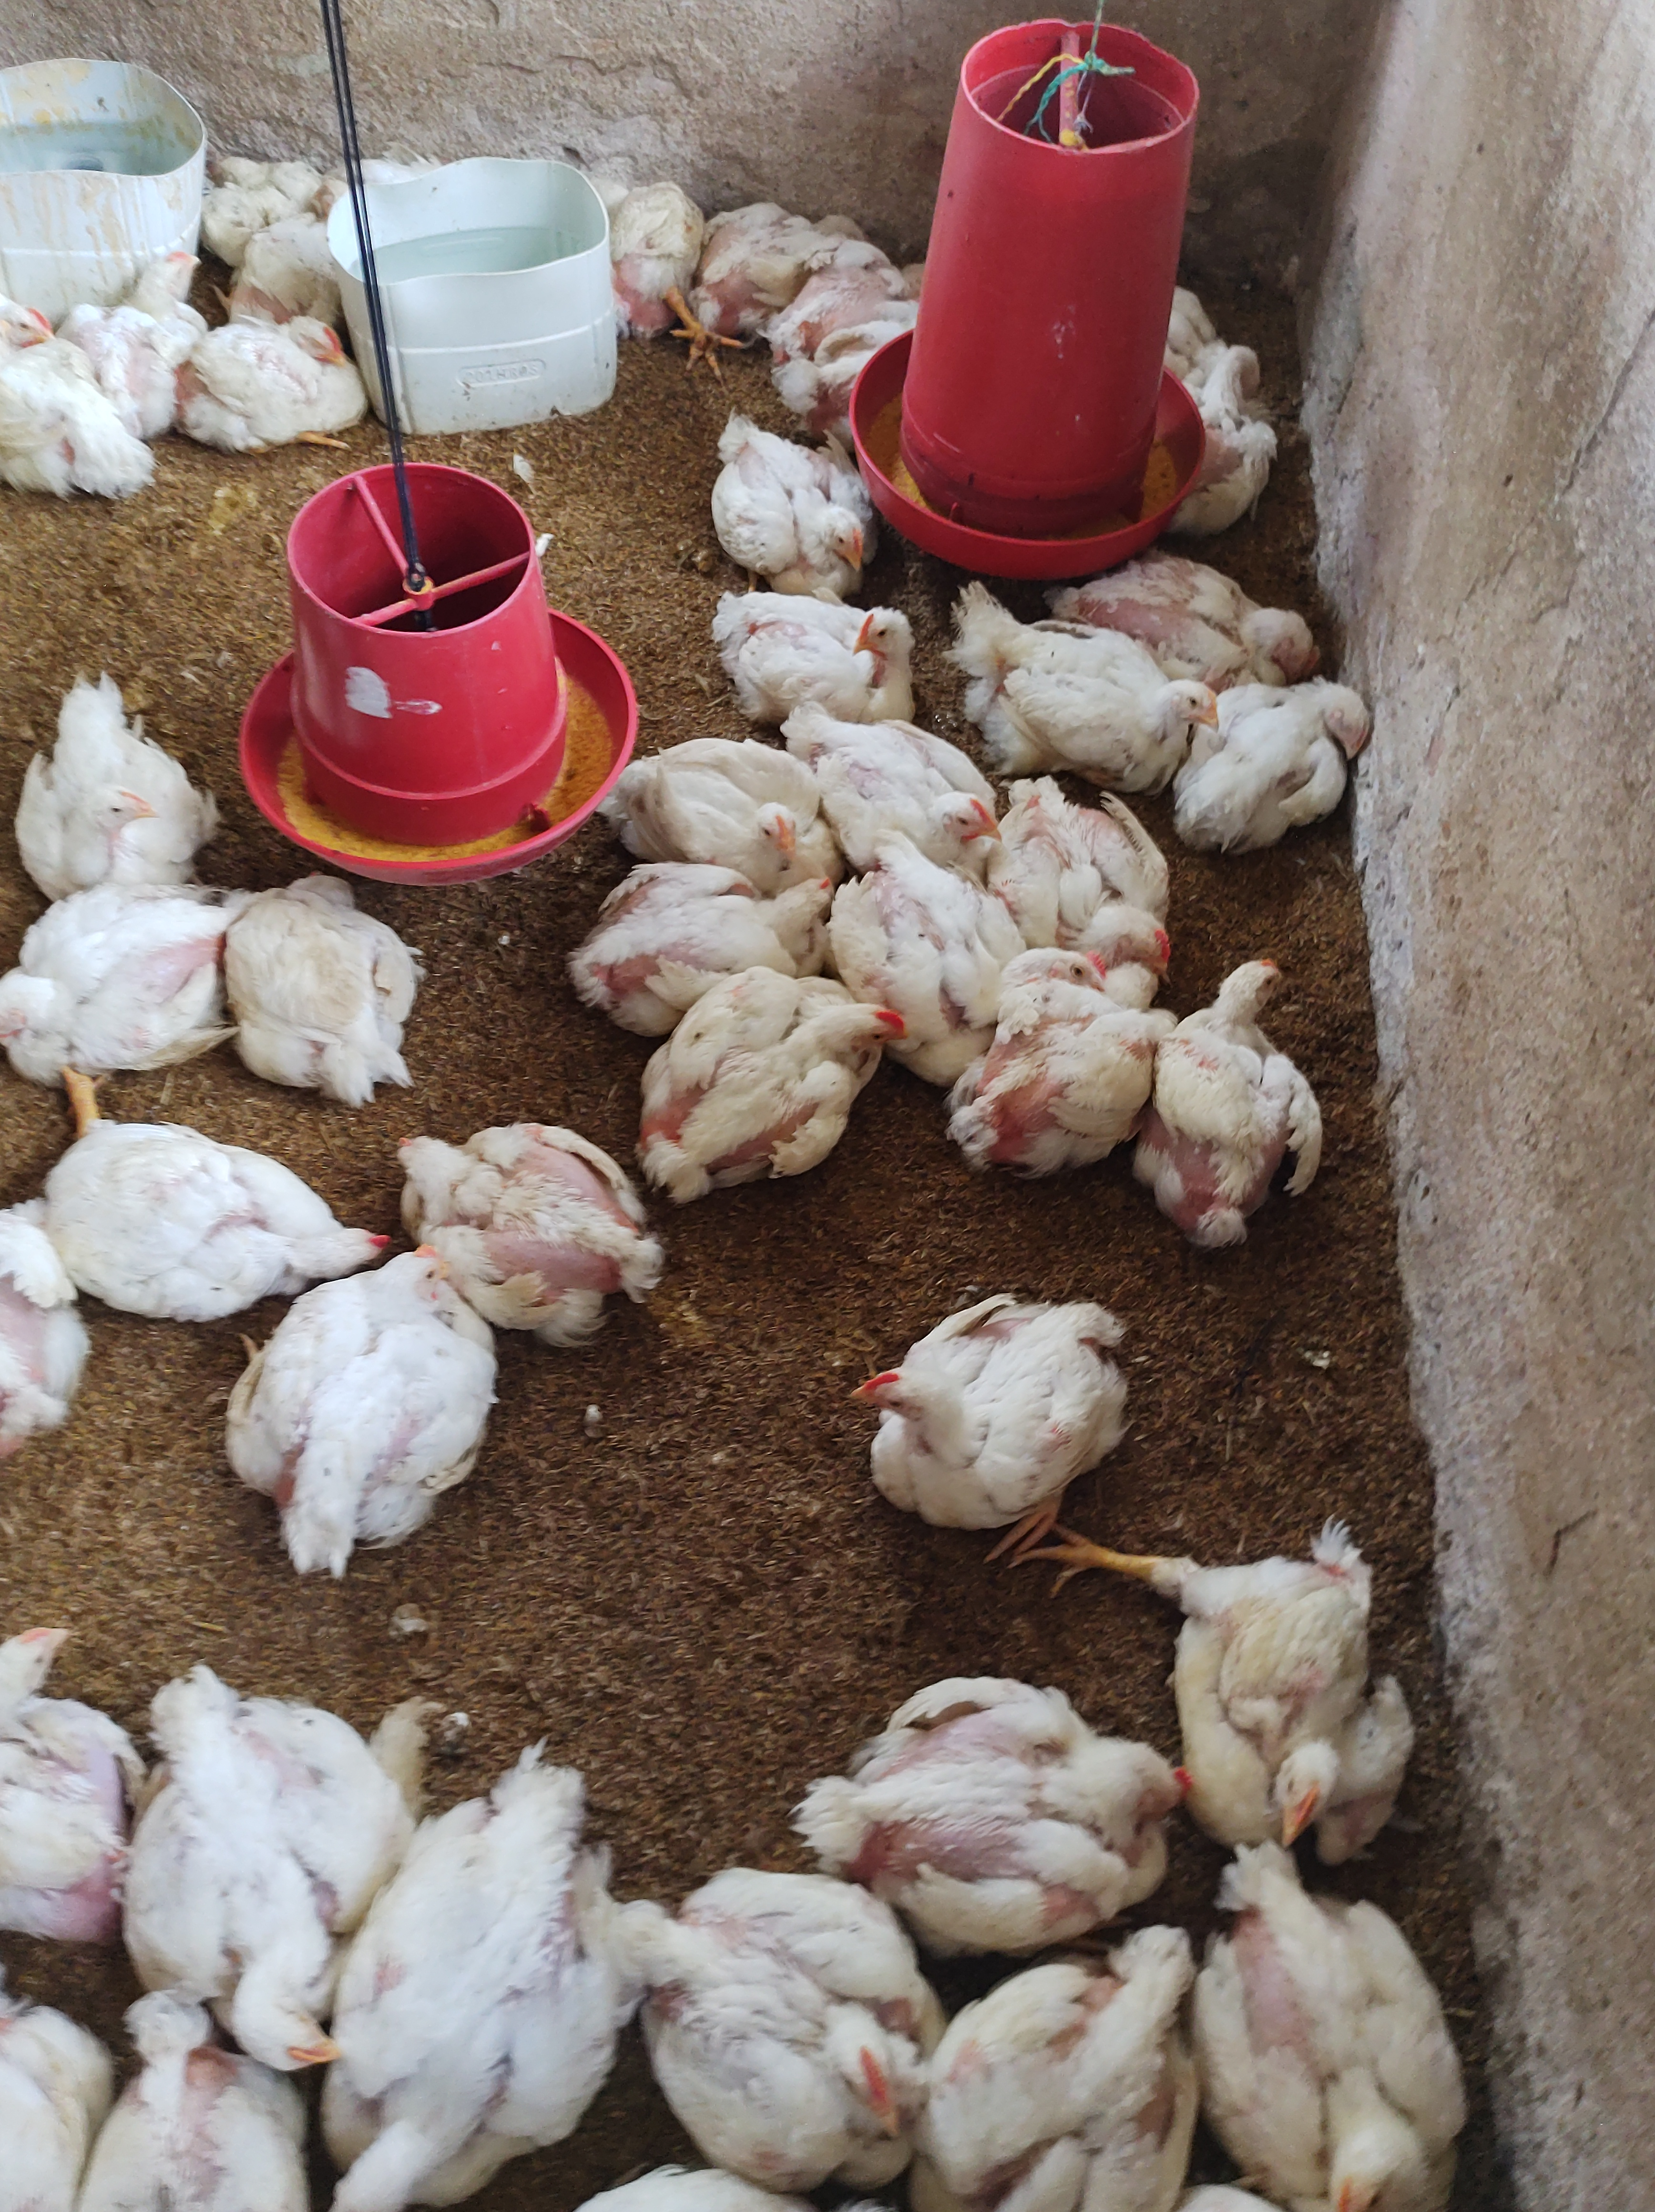Pollos: (353, 1762, 697, 2188), (129, 1668, 391, 2071), (648, 1868, 934, 2174), (1226, 1902, 1507, 2212), (822, 1678, 1186, 1911), (1201, 1513, 1443, 1843), (391, 1115, 687, 1377), (245, 1266, 502, 1567), (841, 1309, 1142, 1553), (23, 1097, 372, 1285), (7, 1567, 183, 1935), (654, 960, 906, 1203), (998, 1922, 1206, 2212), (71, 1993, 348, 2212), (1158, 946, 1356, 1236), (231, 852, 457, 1092), (16, 675, 223, 885), (956, 979, 1156, 1181), (982, 593, 1213, 765), (0, 901, 203, 1085), (589, 845, 834, 984), (1165, 310, 1318, 529), (1097, 546, 1347, 675), (181, 304, 379, 466), (720, 396, 895, 576), (737, 577, 954, 715), (1212, 682, 1396, 842), (635, 715, 819, 869), (833, 730, 1003, 889), (690, 176, 824, 369), (1036, 836, 1203, 974), (596, 165, 716, 344), (0, 283, 68, 435), (115, 238, 224, 323), (998, 925, 1097, 1016)
